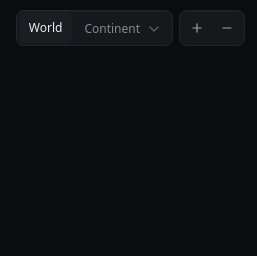
Test: WorldMap regions › offers a World toggle and a dropdown of the six continents
This screenshot has width=257, height=256.
Check: the buttons read "World", in this order, box [19,13,72,43]
Click the dropdown labelled "Continent": (123, 29) [76,13,170,45]
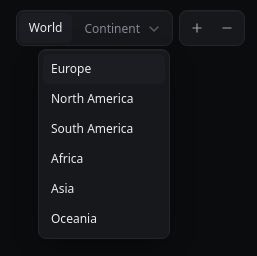
Check: the options read "Europe", "North America", "South America", "Africa", "Asia", "Oceania", in this order, box [43,54,165,84]; [51,90,133,107]; [51,120,133,137]; [51,150,83,167]; [51,180,74,197]; [51,210,97,227]
